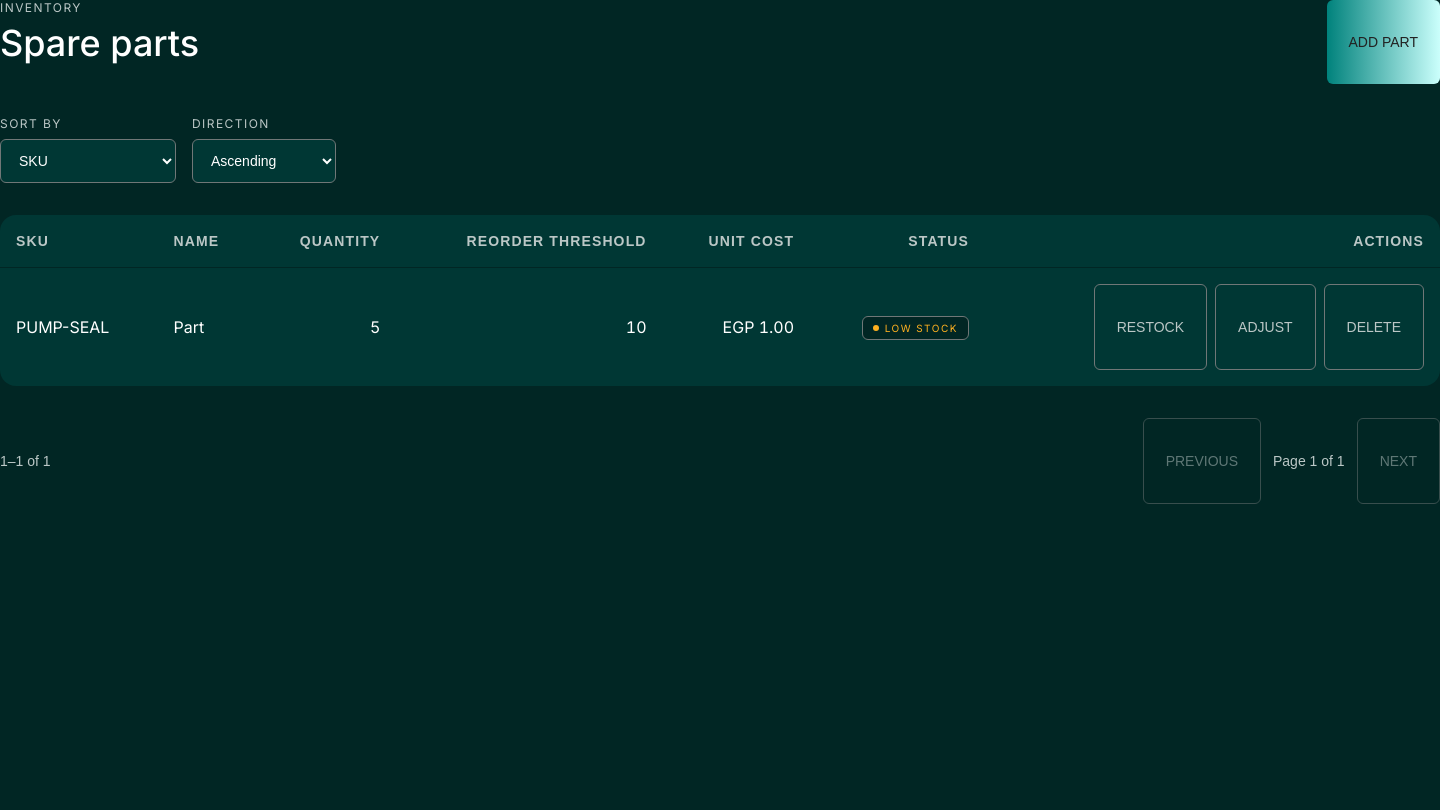
Test: SparePartsListPage › displays the server-returned quantity after a restock, not a client-computed sum
Expected: the text "5" is shown, 255,267 -> 396,386
Click the button "Restock" at point(1150, 327), box 1094,284 -> 1207,370
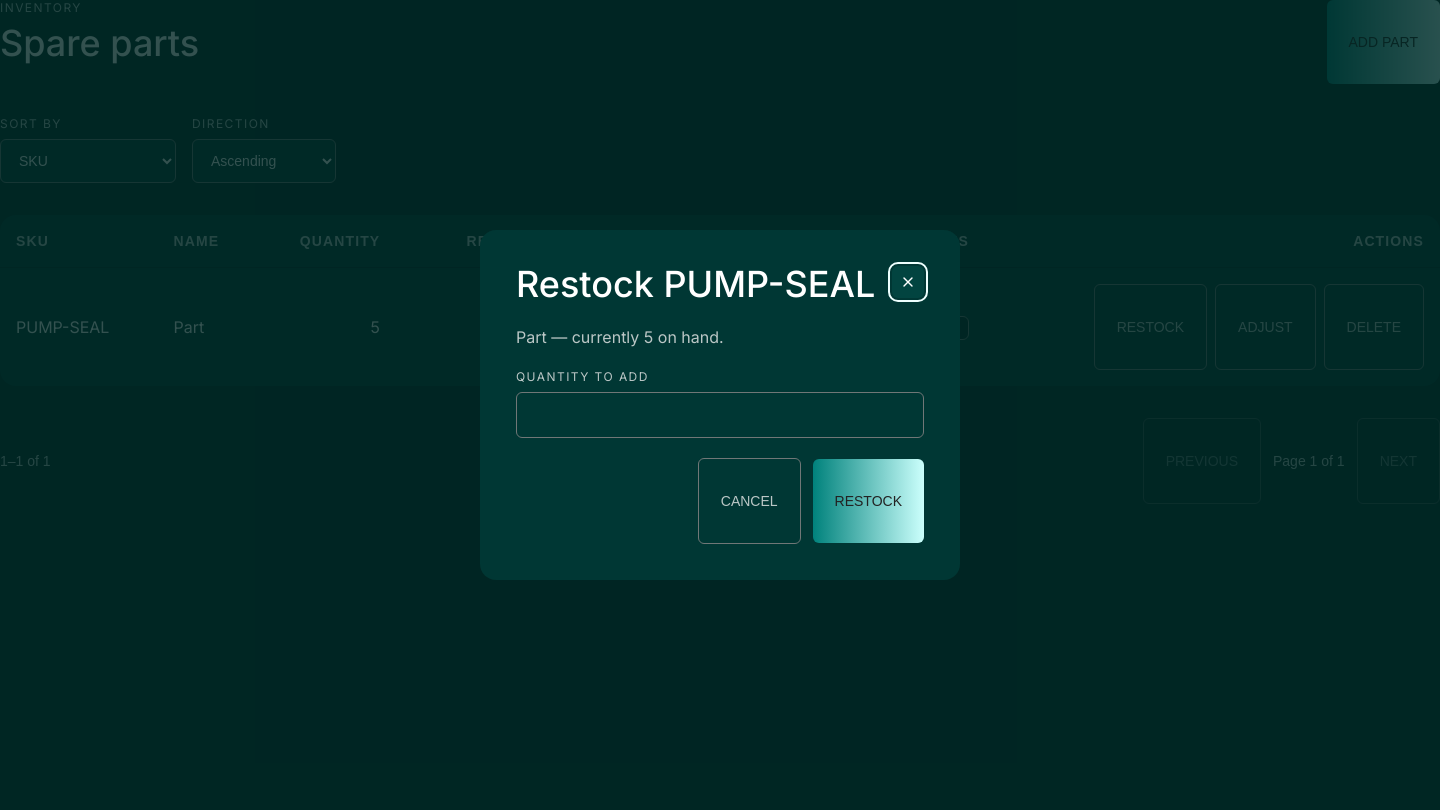
Type "50" into the number field labelled "Quantity to add" at point(720, 415), box 516,392 -> 924,438
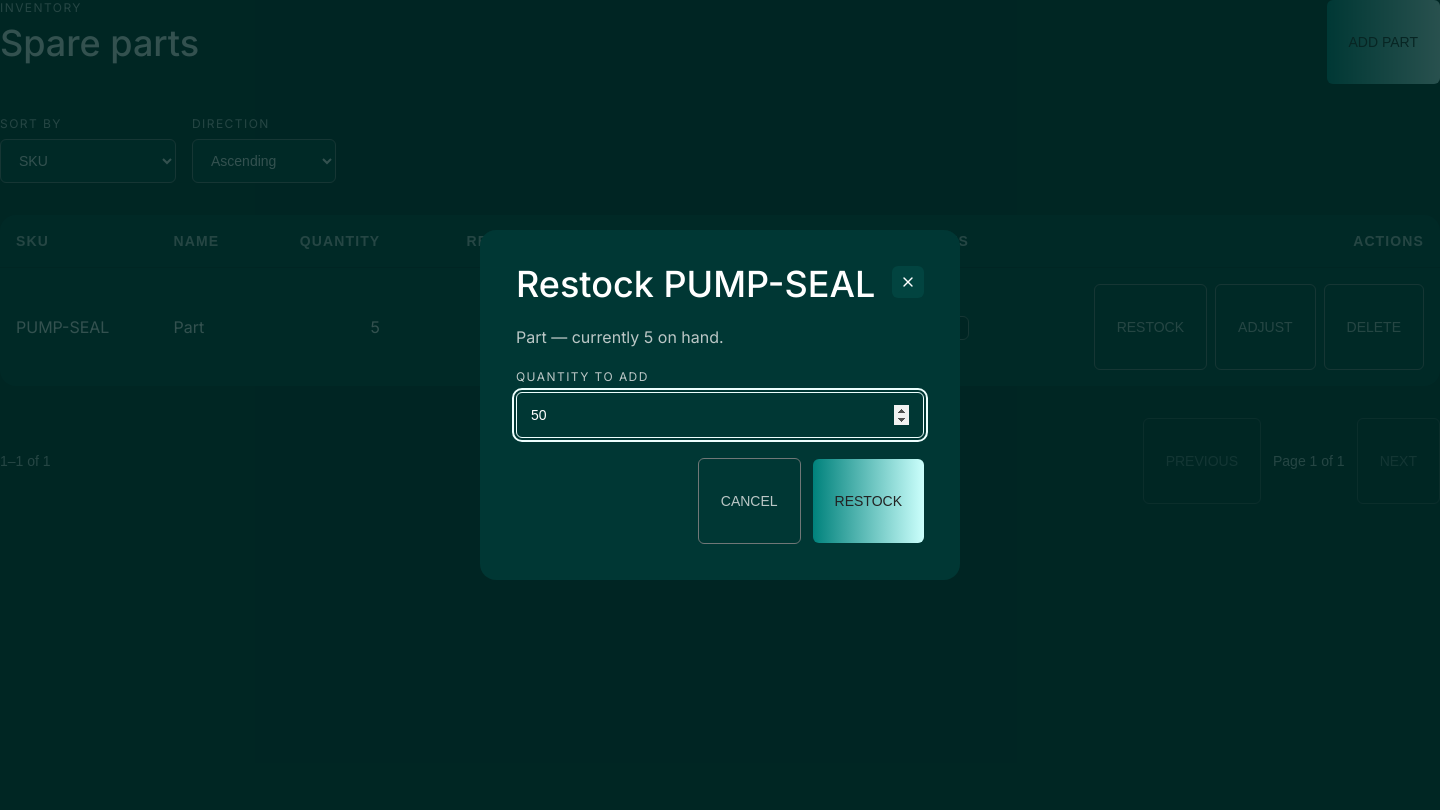
Click the button "Restock" at point(868, 501), box 813,459 -> 924,543
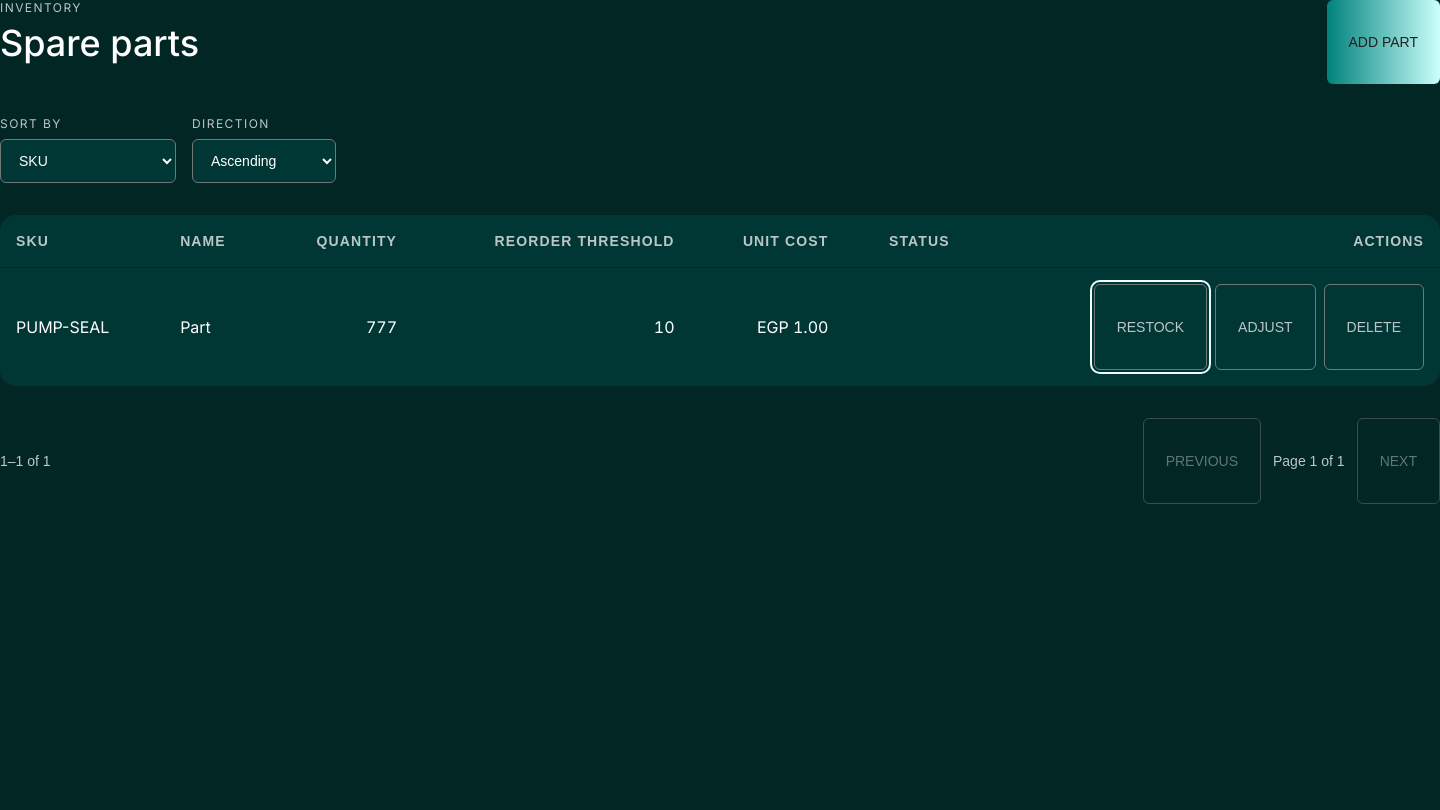
Expected: the text "777" is shown, 266,267 -> 413,386
